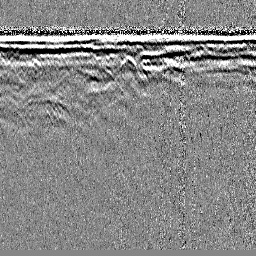cavity: (118, 54, 138, 74)
